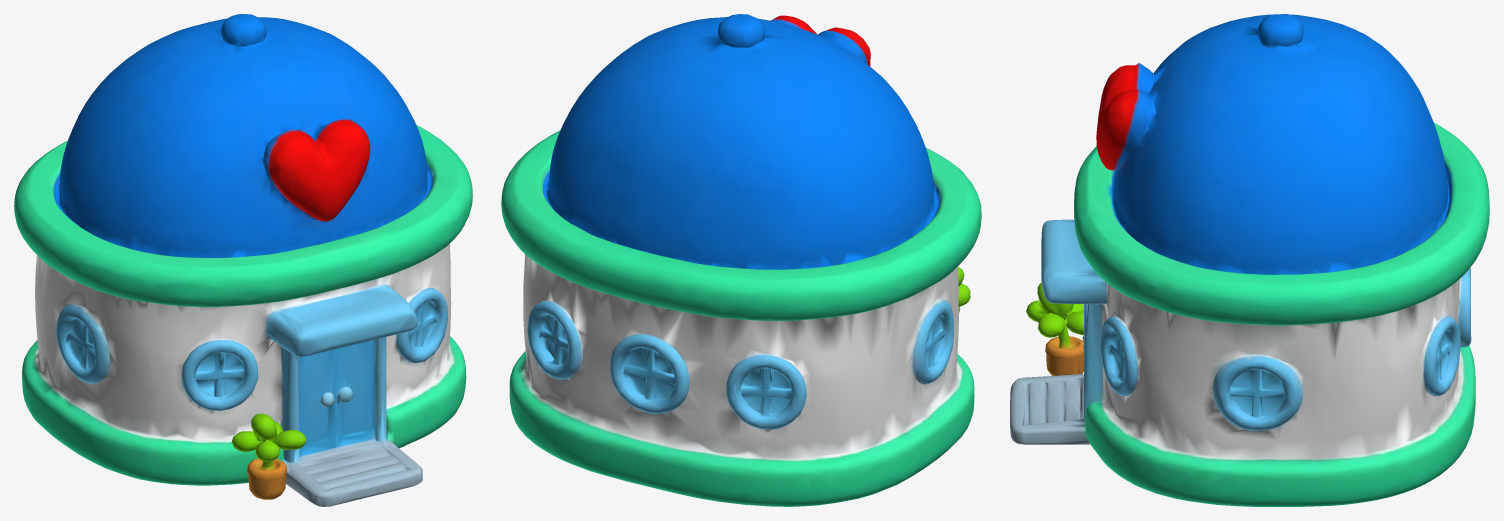
The model's file is clinic.glb.
3 renders of one model, left to right at view 1: azimuth 30°, elevation 25°; view 2: azimuth 150°, elevation 25°; view 3: azimuth 270°, elevation 25°, orthographic. The views are drawn at different scales.
Visible parts, largest first — view 1: tripo_node_af137115-45b5-4ccf-aaeb-d66ca0f3ddda; view 2: tripo_node_af137115-45b5-4ccf-aaeb-d66ca0f3ddda; view 3: tripo_node_af137115-45b5-4ccf-aaeb-d66ca0f3ddda.
Part boxes in pixels (left/top/right/bottom): tripo_node_af137115-45b5-4ccf-aaeb-d66ca0f3ddda: left=14, top=14, right=472, bottom=506; tripo_node_af137115-45b5-4ccf-aaeb-d66ca0f3ddda: left=501, top=14, right=981, bottom=506; tripo_node_af137115-45b5-4ccf-aaeb-d66ca0f3ddda: left=1010, top=14, right=1489, bottom=506.
Bounding box in the file's own units: 1 × 0.9152 × 0.994.
Materials: 1 (1 with a texture image).
